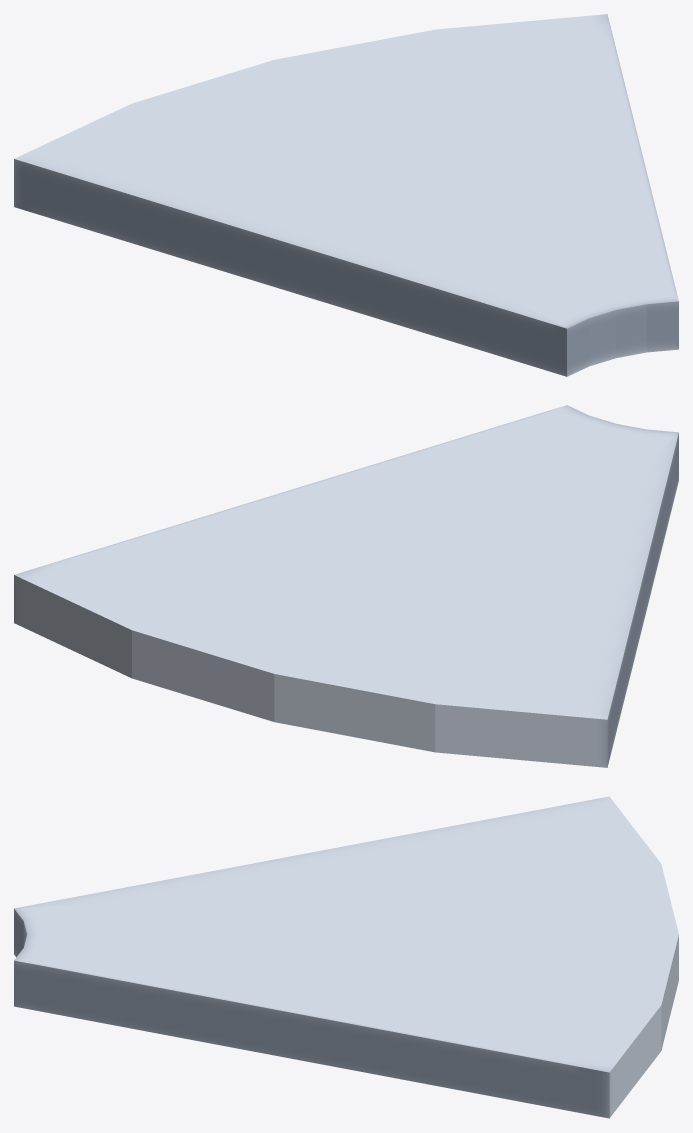
The model's file is circle_platform_3 1.fbx.
3 renders of one model, top to bottom at view 1: azimuth 30°, elevation 25°; view 2: azimuth 150°, elevation 25°; view 3: azimuth 270°, elevation 25°, orthographic. The views are drawn at different scales.
Parts seen in each view (by area): view 1: Cylinder.084; view 2: Cylinder.084; view 3: Cylinder.084.
Part boxes in pixels (x1,y1,x2,y2): Cylinder.084: [14, 14, 678, 376]; Cylinder.084: [14, 405, 678, 767]; Cylinder.084: [14, 796, 678, 1118].
Size of the model in its own units: 3194 by 248 by 3250.
